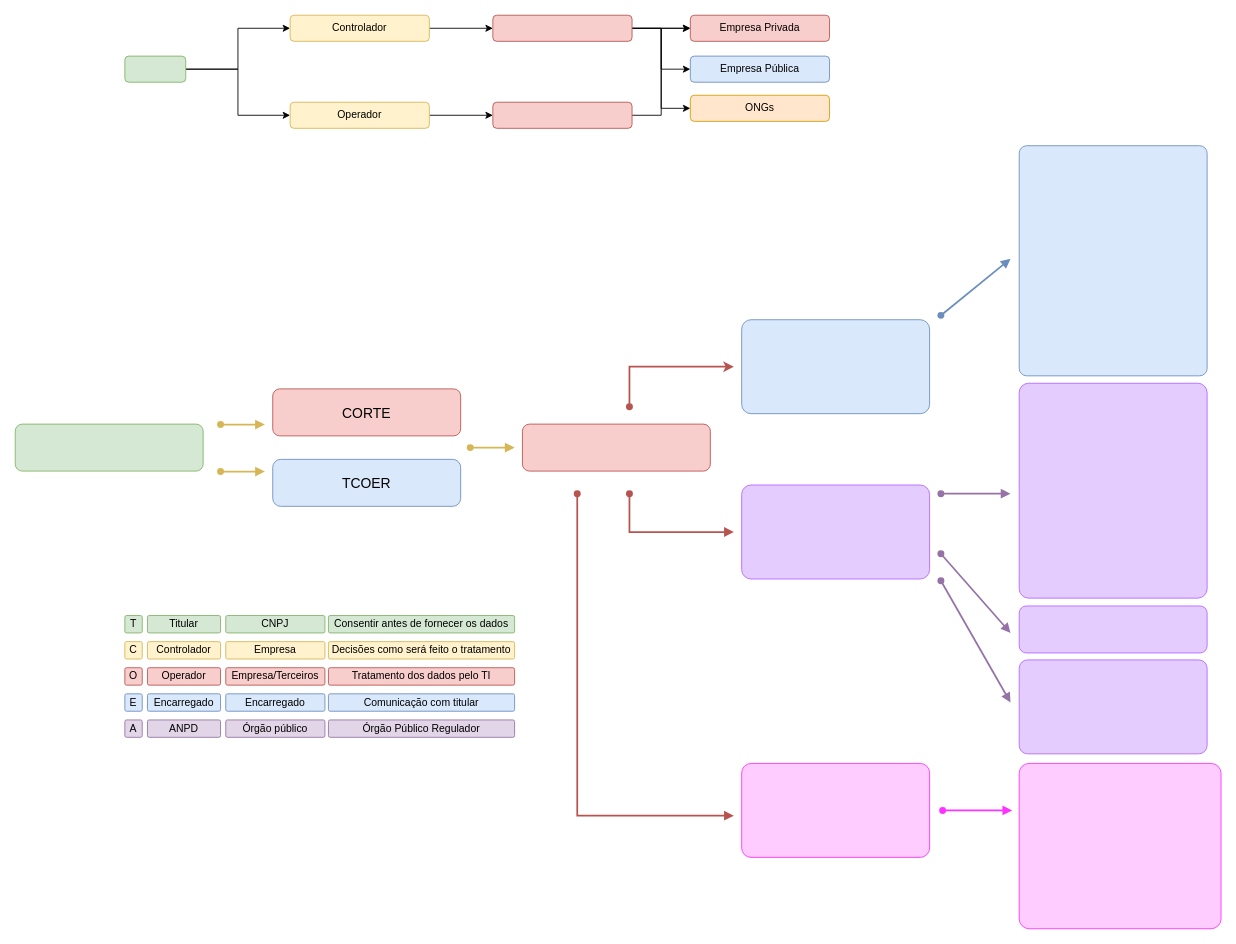
Some shapes in this 1236 by 944 pixel diagram are drawn without their labels. Each missing label, with the centre of its shape:
"Dados" belongs at (x=155, y=68).
"Decisão de Tratamento" belongs at (x=562, y=27).
"Elementos" belongs at (x=108, y=447).
"Realiza tratamento" belongs at (x=562, y=114).
